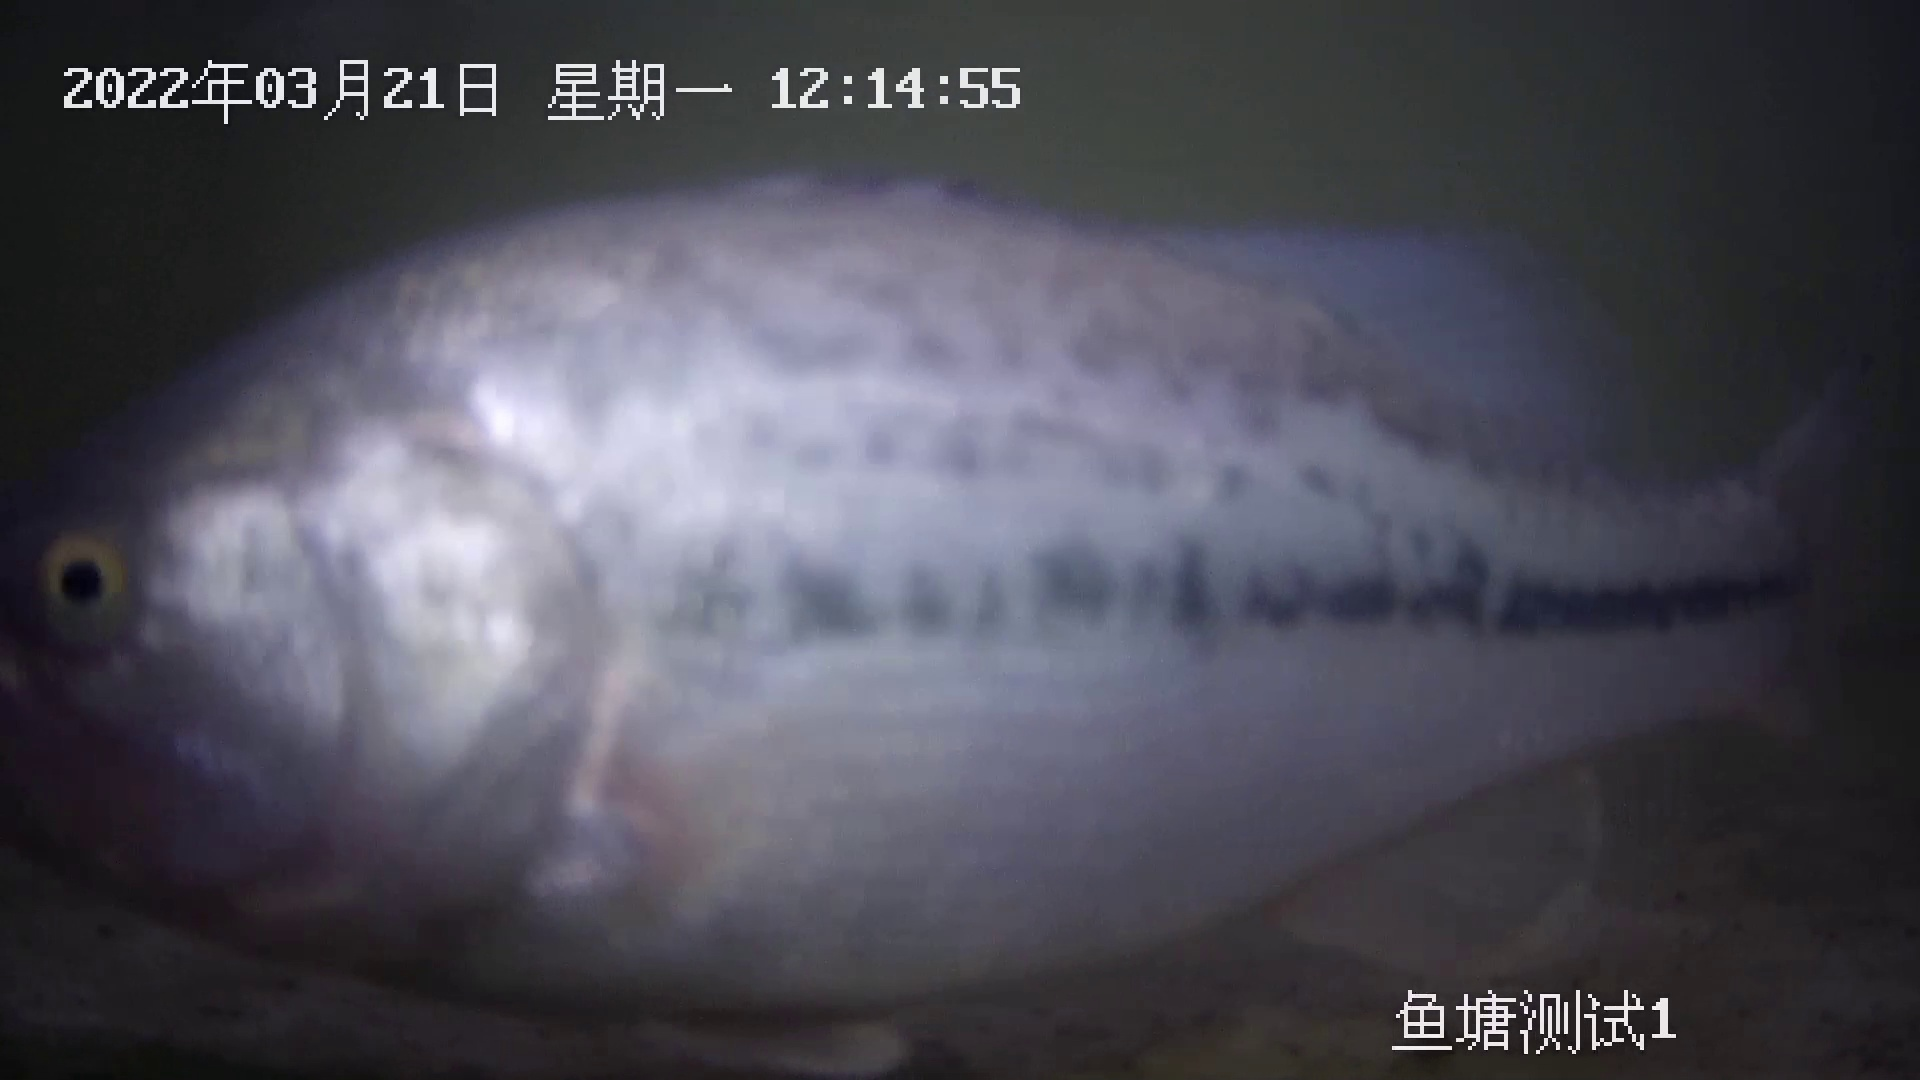fry: (1, 160, 1883, 1076)
